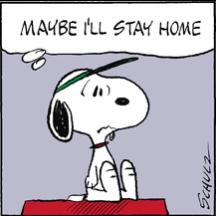snoopy: (46, 55, 150, 202)
